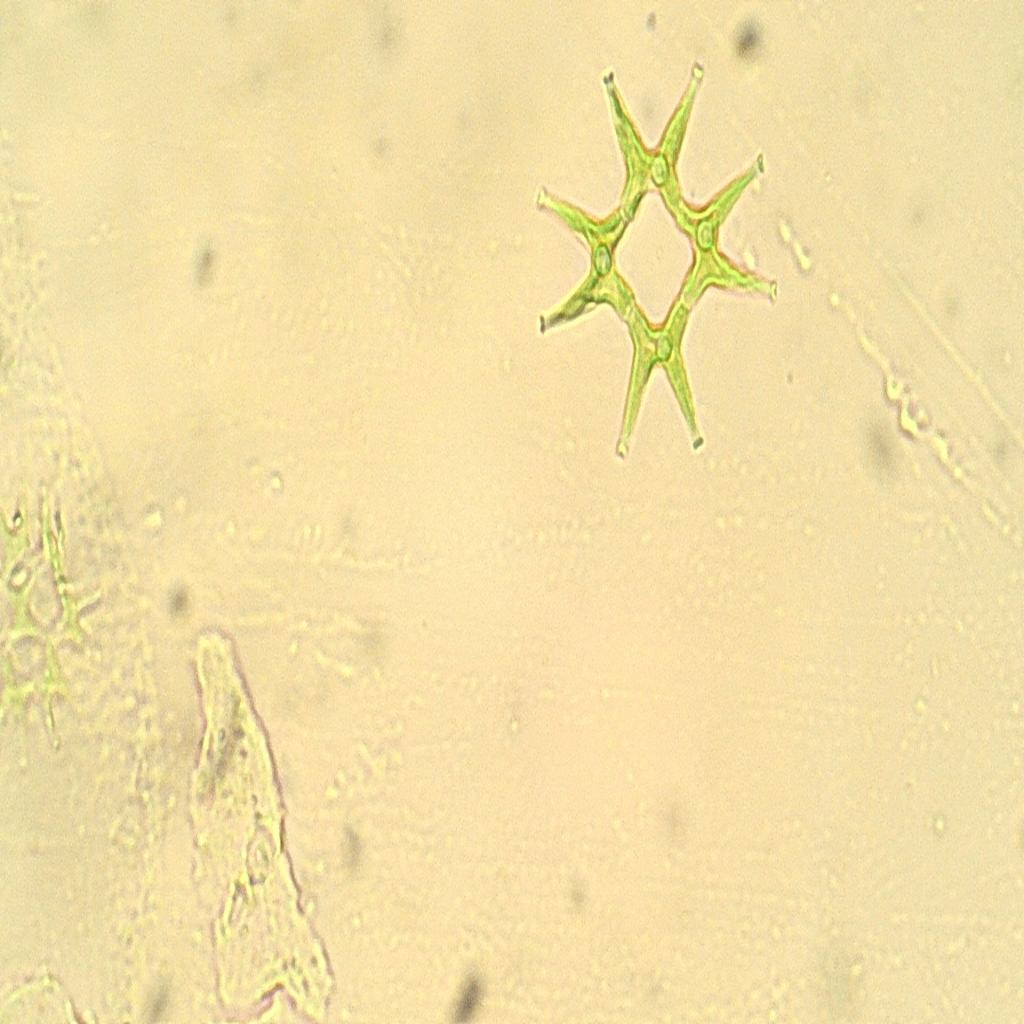Pediastrum_CO: (527, 54, 792, 482)
